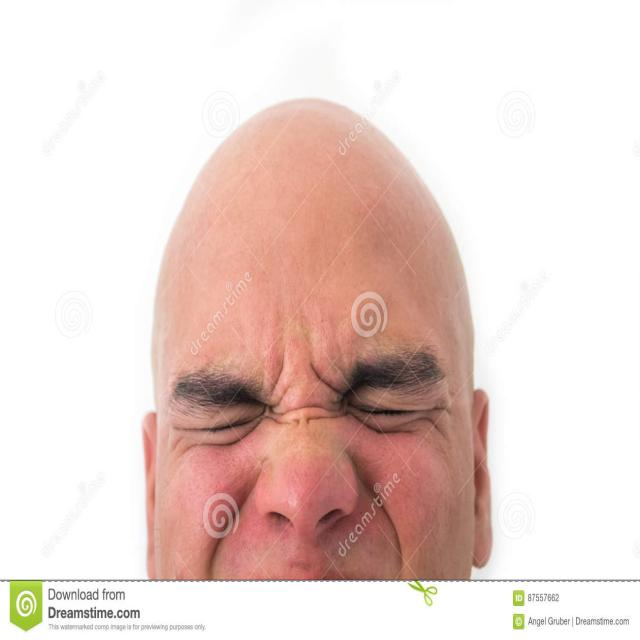no_helmet: (110, 74, 502, 394)
